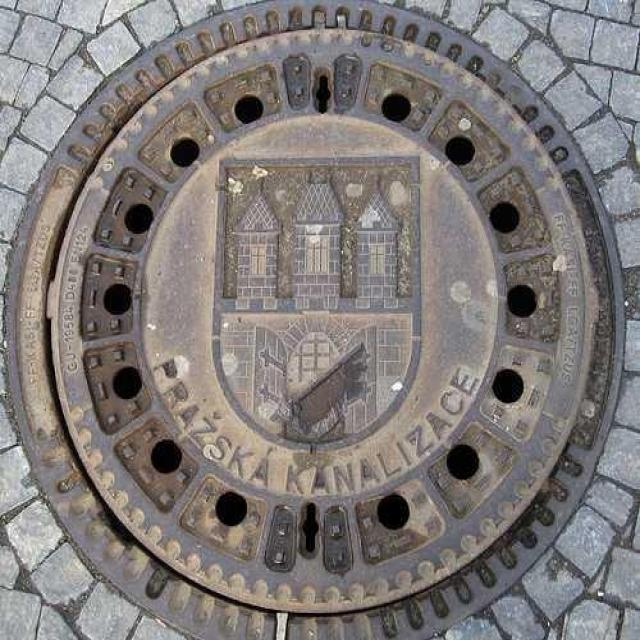manhole: (5, 6, 630, 640)
